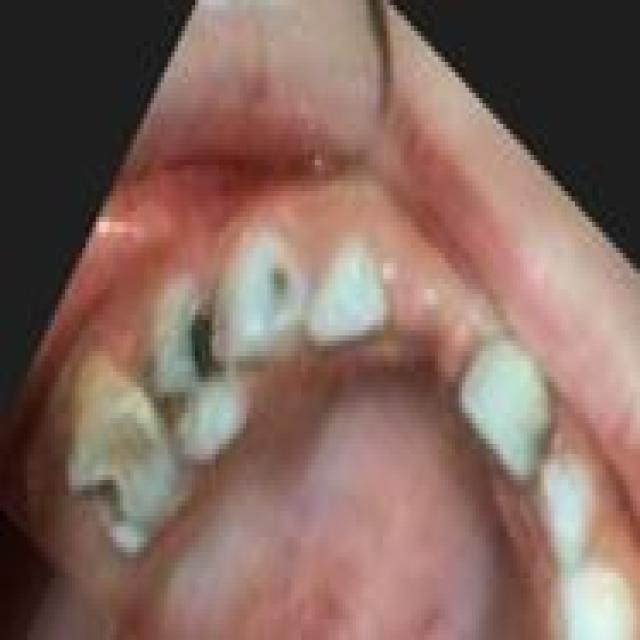caries: (170, 287, 238, 409), (255, 250, 316, 343)
